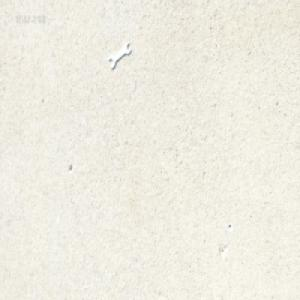Wrench: (108, 41, 130, 69)
